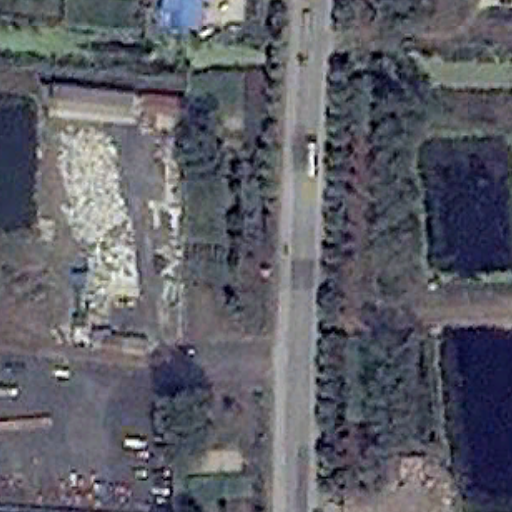msw: (57, 125, 135, 279)
